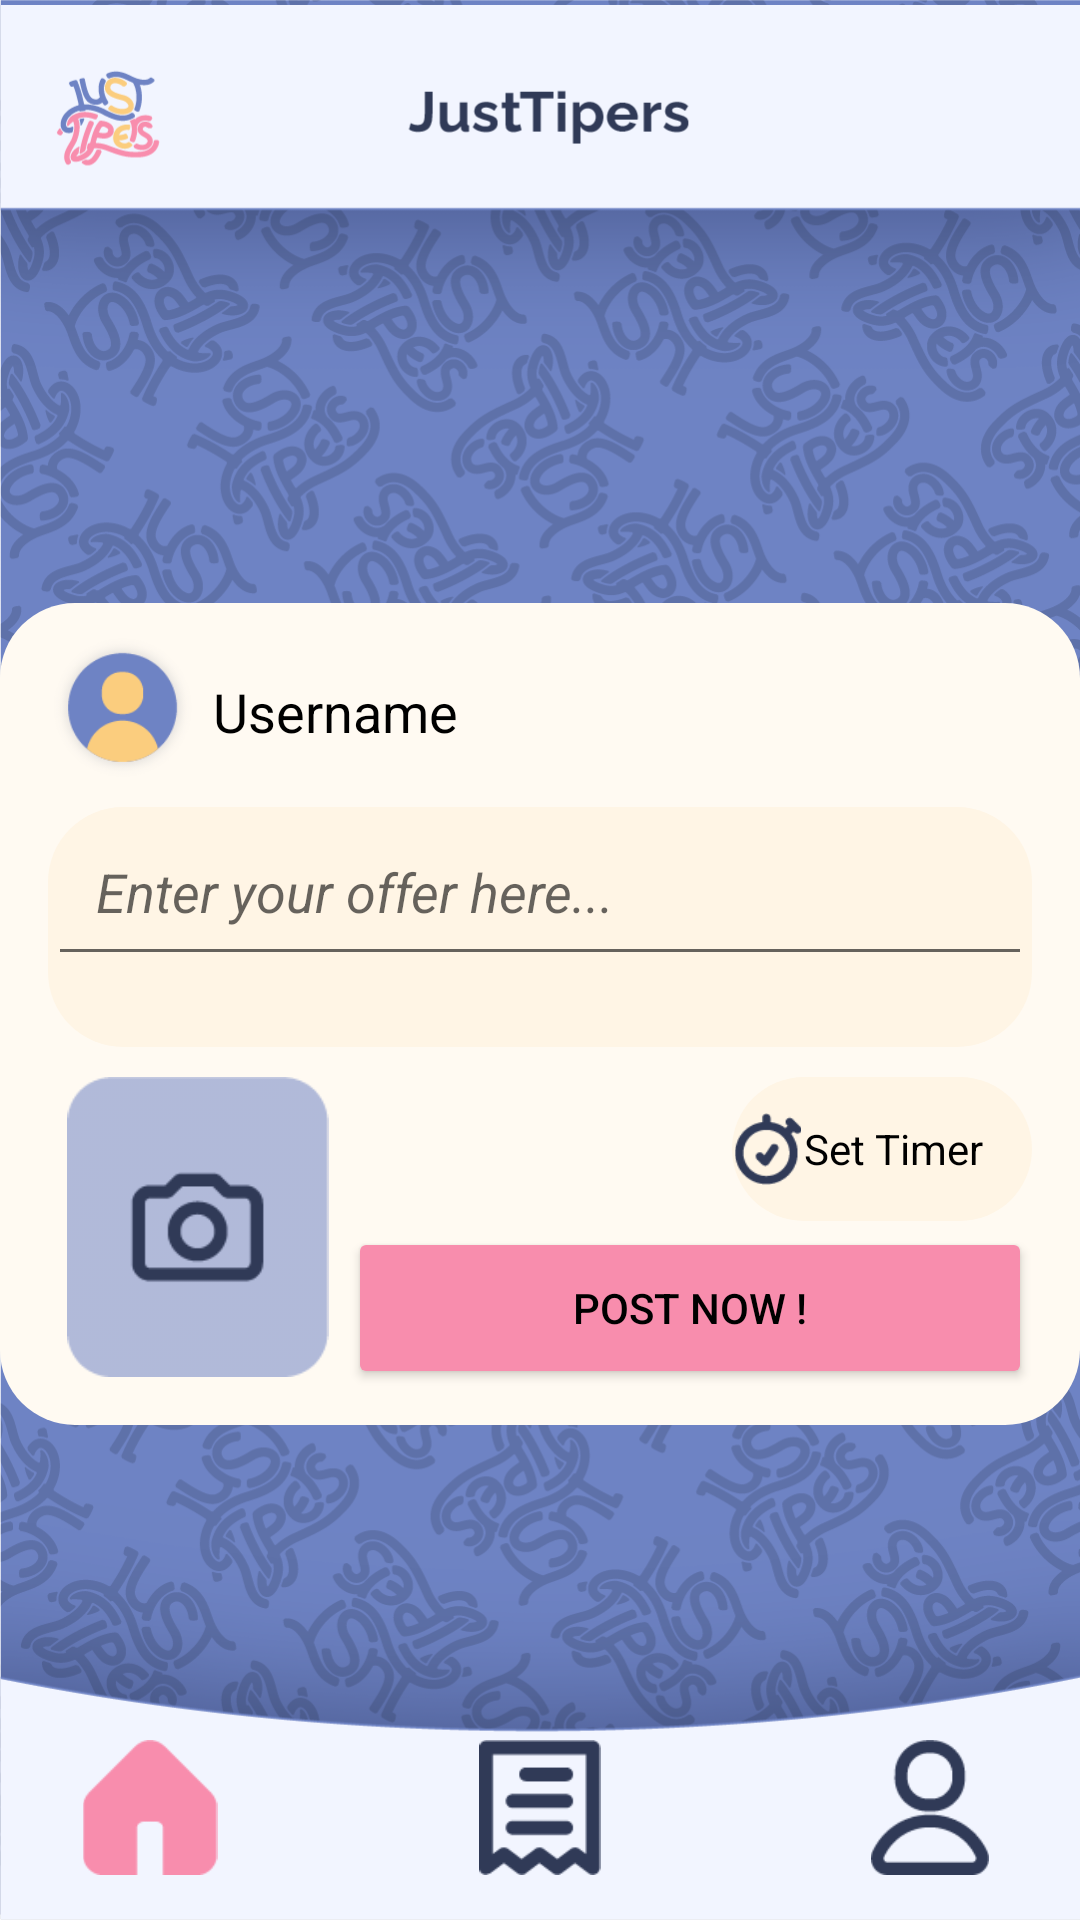

Where icons sit on this 1080x1920 app screen, as {"left": x1, "top": y1, "right": x2, "bottom": y2}:
home on: {"left": 83, "top": 1740, "right": 218, "bottom": 1875}
order: {"left": 479, "top": 1740, "right": 601, "bottom": 1875}
profile: {"left": 871, "top": 1740, "right": 989, "bottom": 1875}
profile post: {"left": 68, "top": 652, "right": 178, "bottom": 762}
